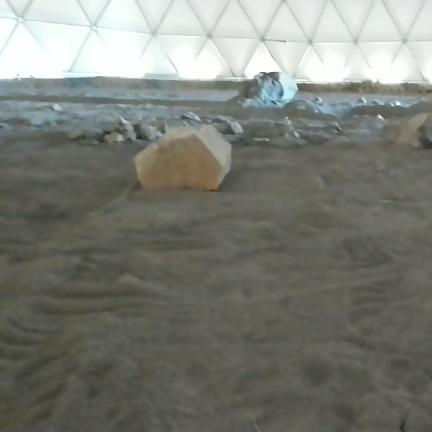Rock: (134, 125, 231, 190), (245, 72, 298, 102), (388, 113, 431, 149), (140, 125, 159, 140), (83, 128, 104, 141), (224, 121, 243, 134), (105, 132, 124, 143), (123, 125, 136, 141), (182, 112, 201, 122), (329, 122, 343, 134), (68, 131, 83, 139), (119, 117, 130, 126), (51, 104, 62, 110), (291, 130, 299, 138), (372, 100, 382, 105), (314, 97, 322, 103), (359, 97, 366, 103), (393, 101, 401, 106), (376, 114, 383, 119), (387, 102, 394, 106)
